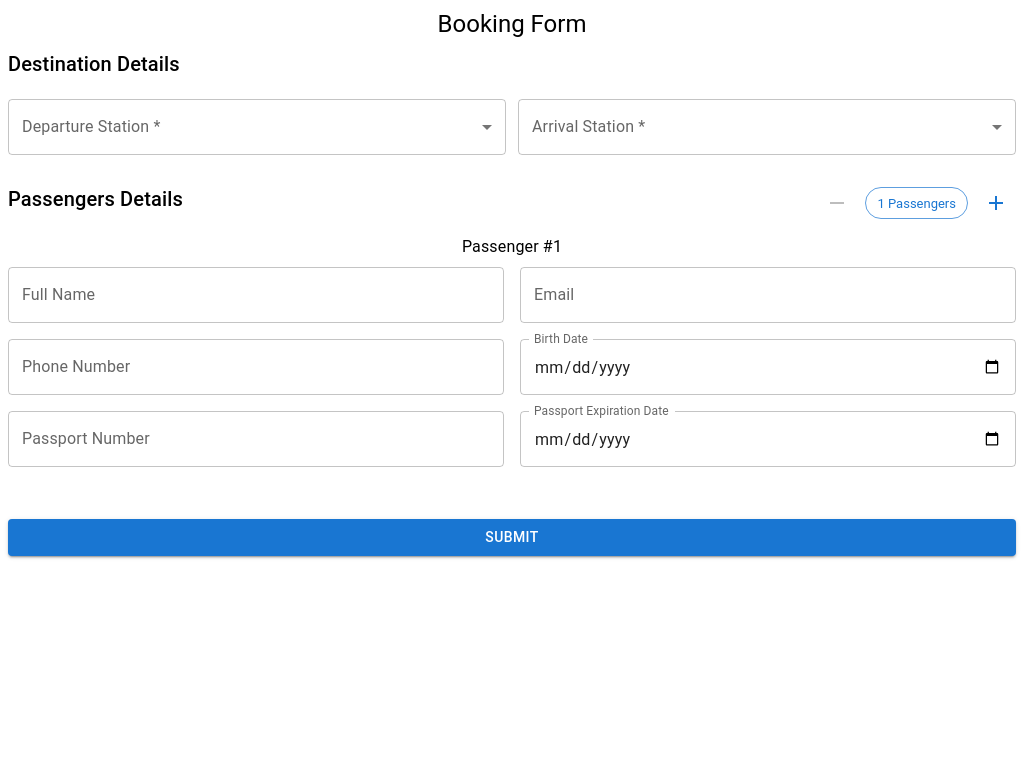
Test: BookingForm › can add passengers
Click the button with test id "AddIcon". click: (996, 203)
box: [976, 183, 1016, 223]
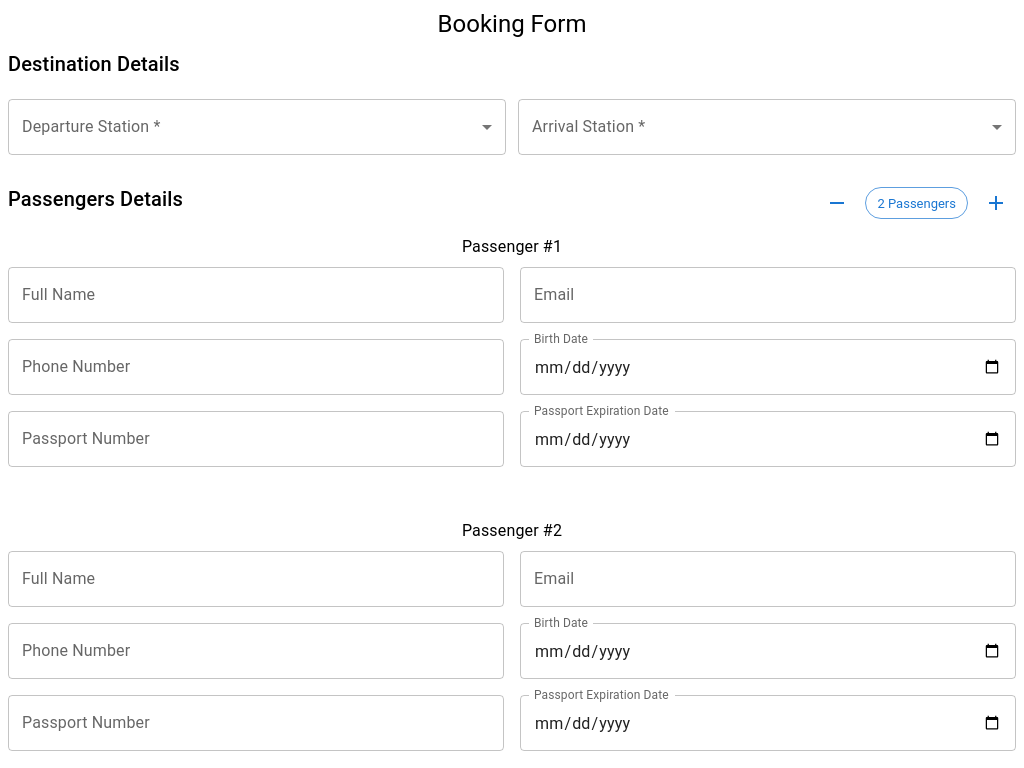
expect the text "2 Passengers" is shown: met, box [878, 196, 956, 211]
expect the text "Passenger #2" is shown: met, box [462, 521, 562, 540]
